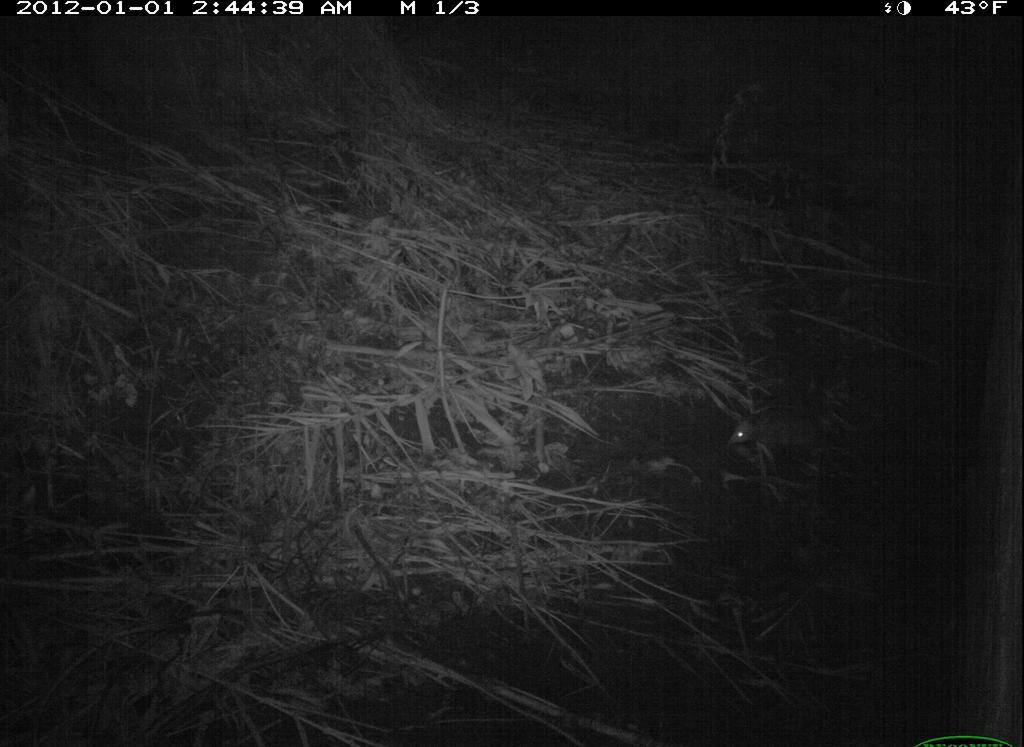opossum: (712, 395, 835, 469)
